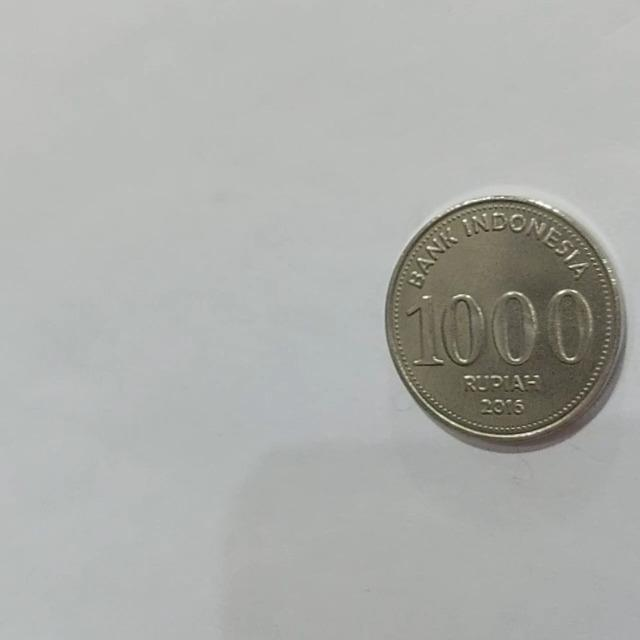Rp100: (382, 191, 627, 452)
